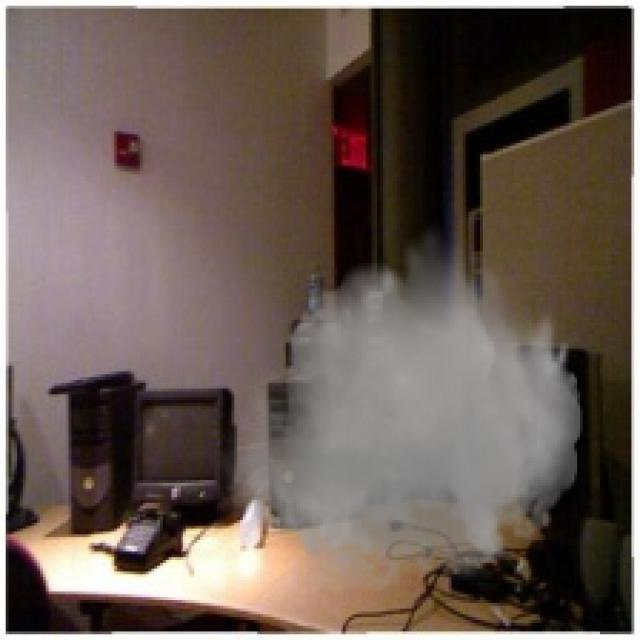smoke: (214, 217, 592, 609)
